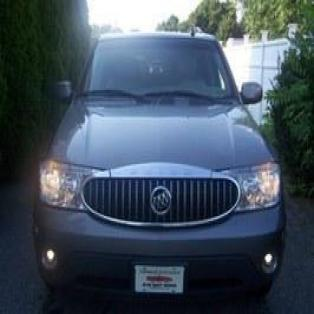Auto: (33, 27, 285, 301)
